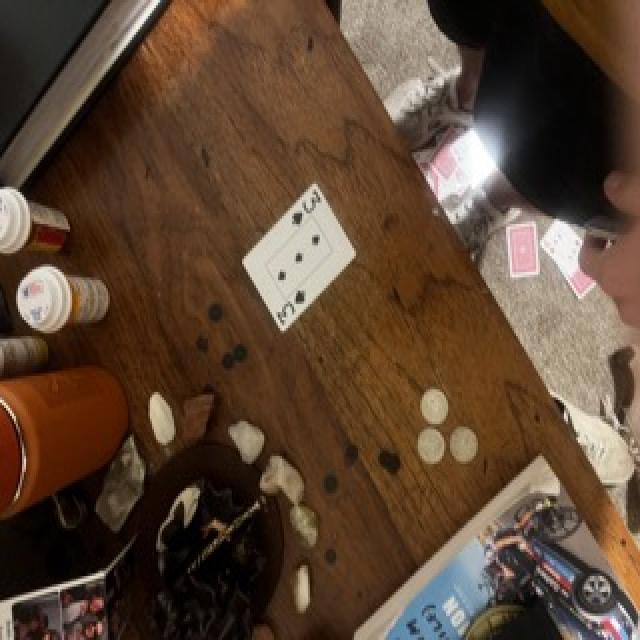3 of spades: (242, 183, 356, 332)
